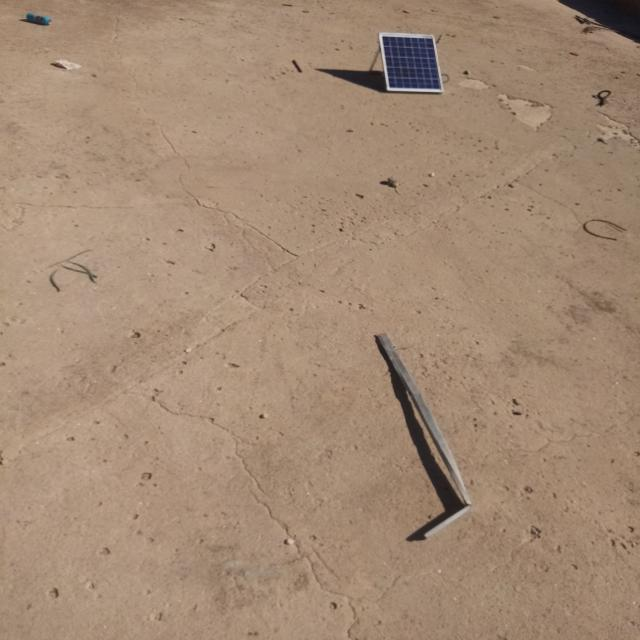Normal Solar Panel: (379, 34, 444, 91)
